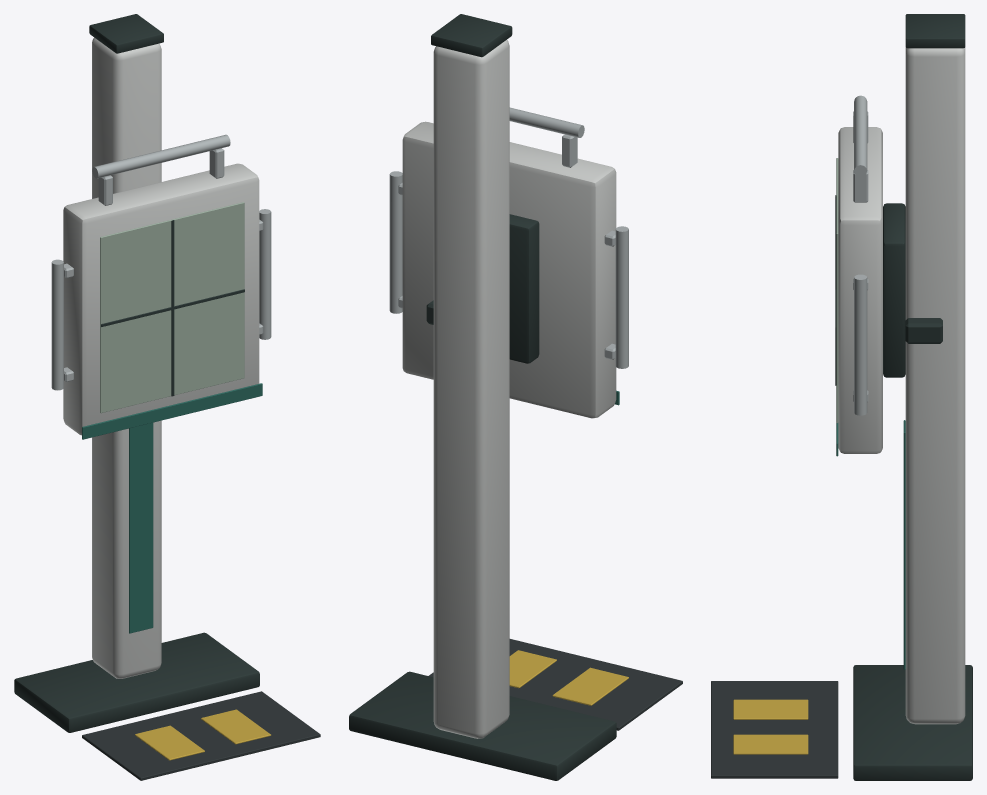
File: xray-chest-stand.glb
The picture shows the model from 3 angles, left to right: view 1: azimuth 30°, elevation 25°; view 2: azimuth 150°, elevation 25°; view 3: azimuth 270°, elevation 25°; orthographic projection. The views are drawn at different scales.
Visible parts, largest first — view 1: xray-chest-stand; view 2: xray-chest-stand; view 3: xray-chest-stand.
Part boxes in pixels (bbox=[...]): xray-chest-stand: bbox=[14, 14, 320, 780]; xray-chest-stand: bbox=[349, 14, 682, 780]; xray-chest-stand: bbox=[711, 14, 972, 780].
Size of the model in its own units: 0.725 by 2.08 by 0.7.
